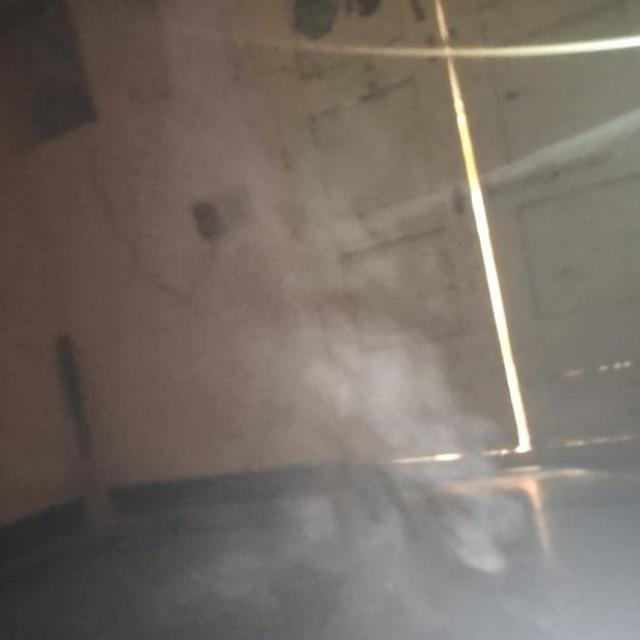fire: (139, 63, 542, 622)
